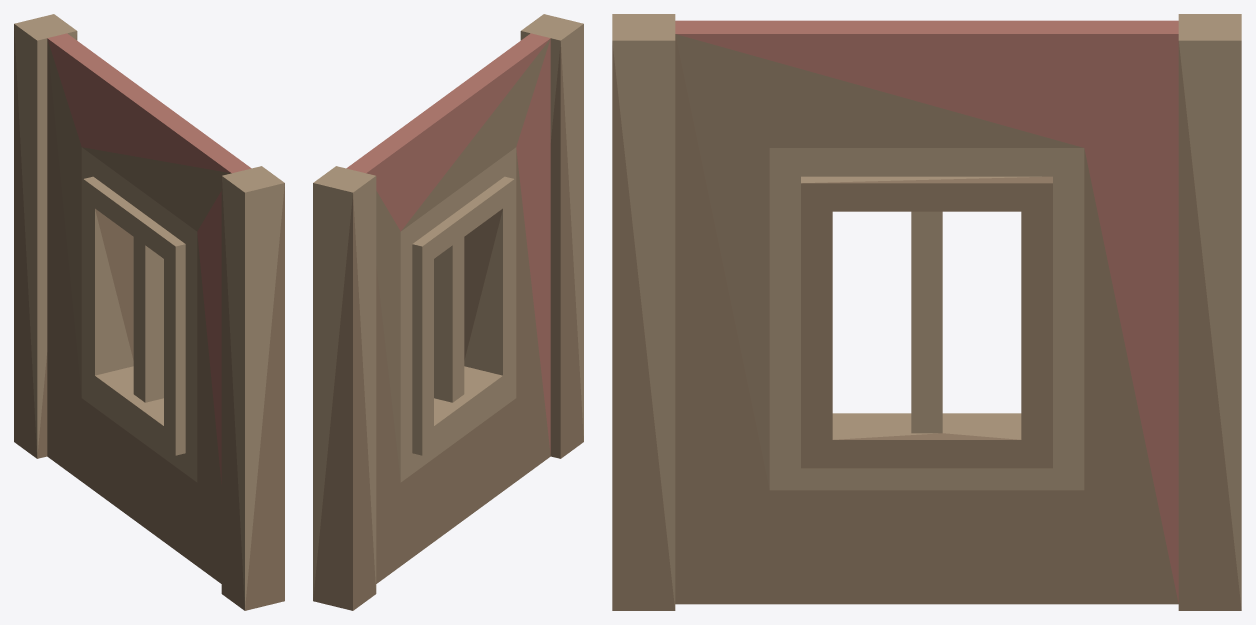
3 renders of one model, left to right at view 1: azimuth 30°, elevation 25°; view 2: azimuth 150°, elevation 25°; view 3: azimuth 270°, elevation 25°, orthographic. The views are drawn at different scales.
Visible parts, largest first — view 1: model; view 2: model; view 3: model.
Part boxes in pixels (<box>): model: <box>14,14,284,610</box>; model: <box>313,14,583,610</box>; model: <box>612,14,1241,610</box>.
Bounding box in the file's own units: 0.2 × 2 × 2.
